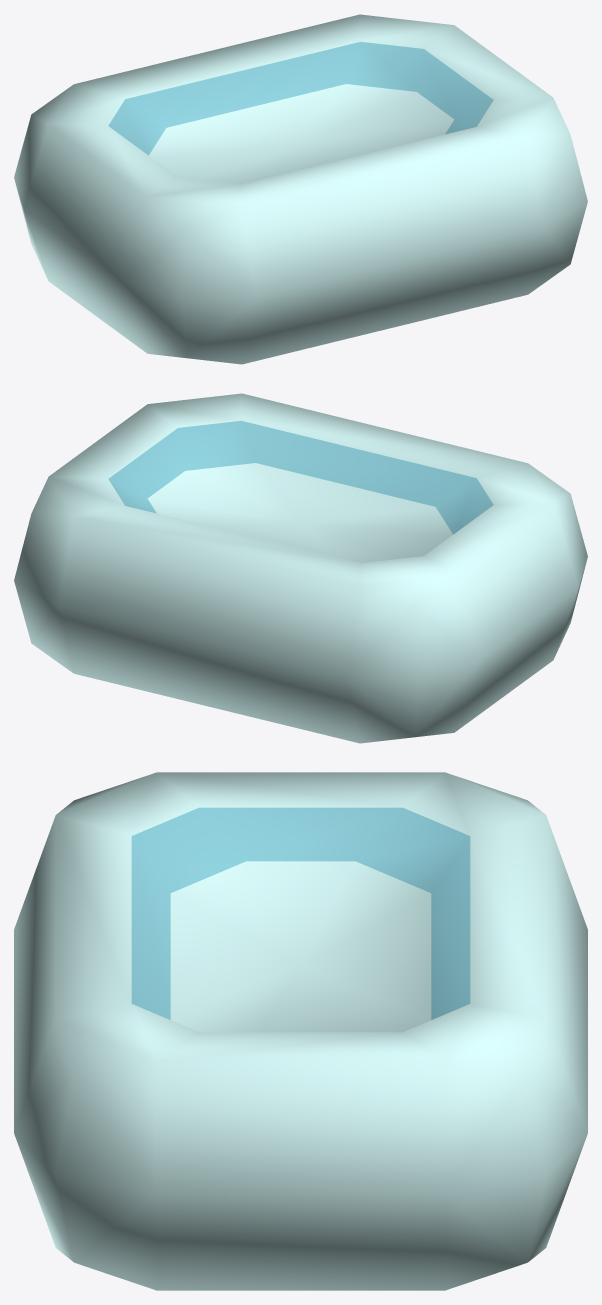
Rendered from soap.fbx.
3 renders of one model, top to bottom at view 1: azimuth 30°, elevation 25°; view 2: azimuth 150°, elevation 25°; view 3: azimuth 270°, elevation 25°, orthographic. The views are drawn at different scales.
Visible parts, largest first — view 1: Soap; view 2: Soap; view 3: Soap.
Part boxes in pixels (x1=…): Soap: x1=14, y1=14, x2=587, y2=364; Soap: x1=14, y1=393, x2=587, y2=743; Soap: x1=14, y1=772, x2=587, y2=1290.
Bounding box in the file's own units: 0.2583 × 0.0852 × 0.1933.
